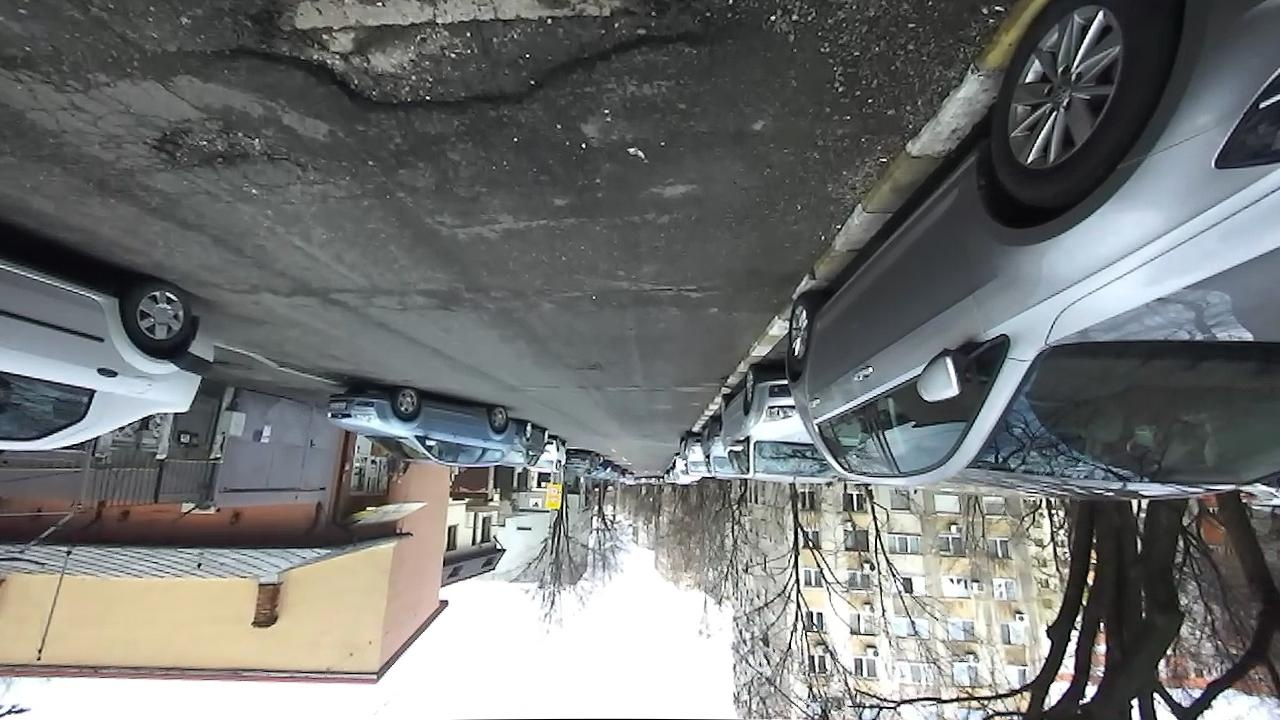pothole: (204, 0, 722, 112), (141, 114, 315, 177), (625, 276, 714, 304)
